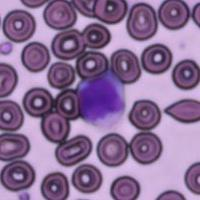M: (78, 67, 127, 130)
